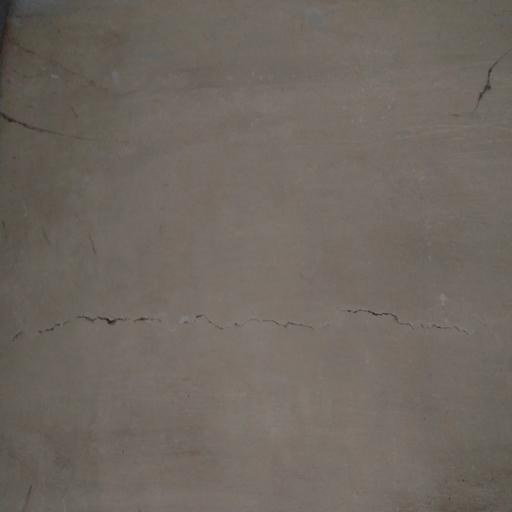minor_crack: (14, 298, 495, 353)
